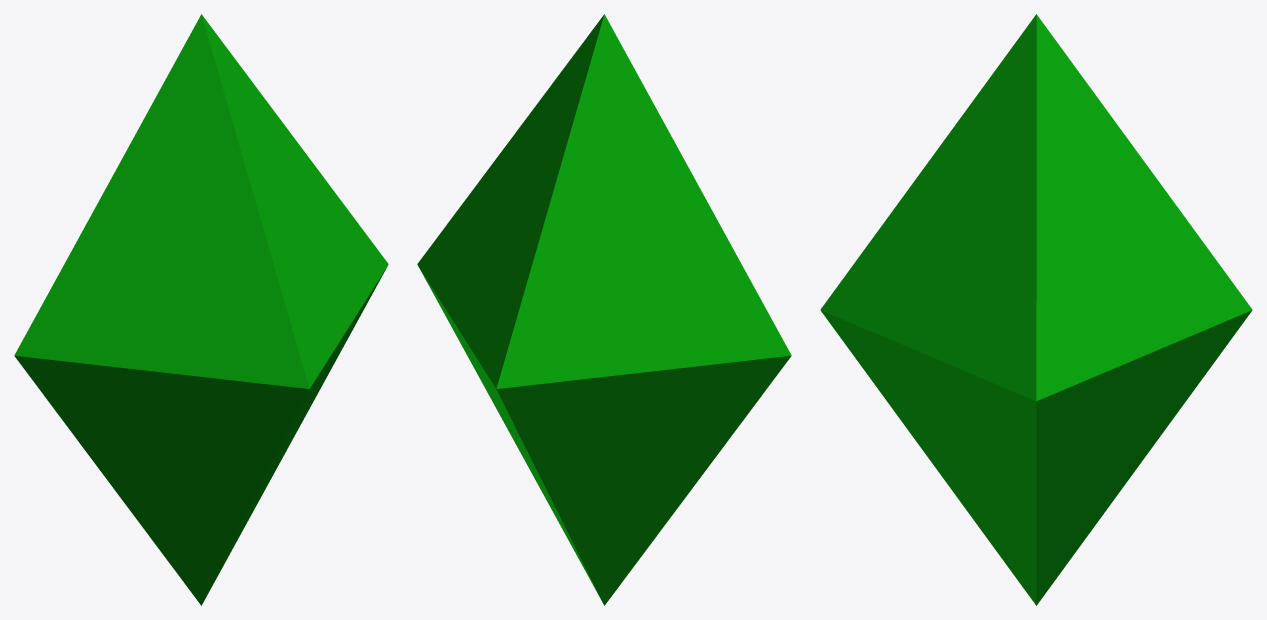
The model's file is Briliant.fbx.
3 views of the same model, side by side, from view 1: azimuth 30°, elevation 25°; view 2: azimuth 150°, elevation 25°; view 3: azimuth 270°, elevation 25° (orthographic).
Visible parts, largest first — view 1: Cone, Cone.001; view 2: Cone, Cone.001; view 3: Cone, Cone.001.
Boxes of the visible parts, x1,y1,x2,y2 form: Cone: (14, 14, 388, 388); Cone.001: (14, 267, 386, 605); Cone: (417, 14, 791, 388); Cone.001: (419, 267, 791, 605); Cone: (820, 14, 1252, 401); Cone.001: (820, 310, 1252, 605).
Bounding box in the file's own units: 160 × 242 × 160.
